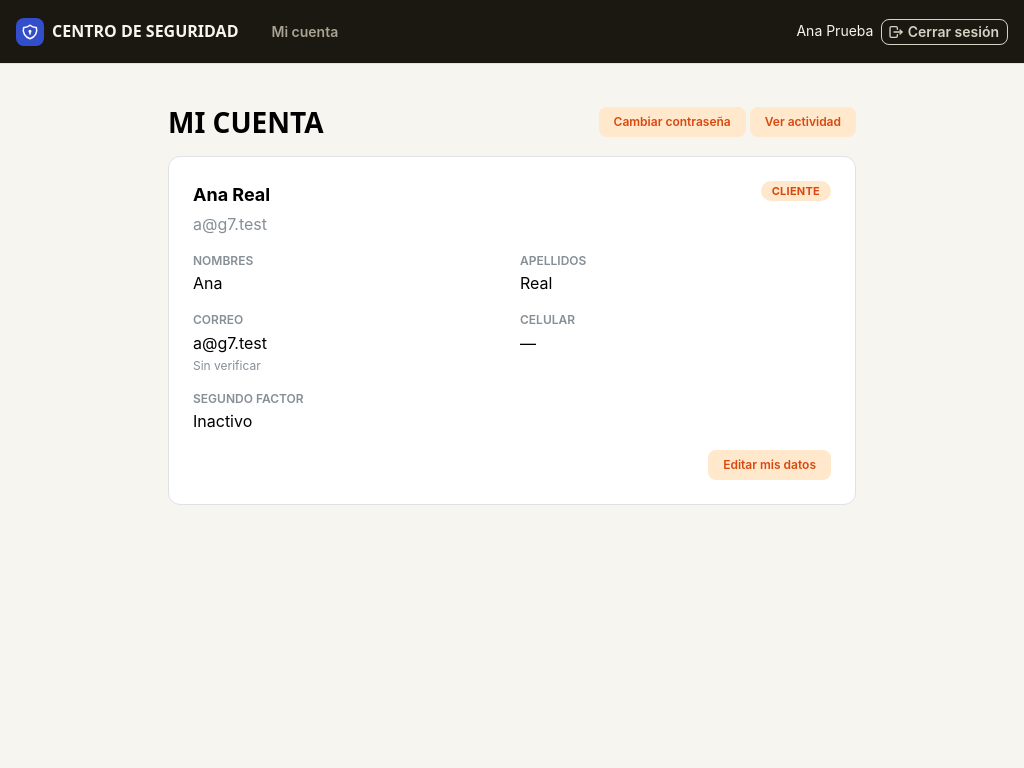
Test case: FRONT-06 edición propia › un 400 VALIDACION del backend aparece bajo su campo
The width and height of the screenshot is (1024, 768).
Click the button "Editar mis datos": (770, 465) top-left (708, 450), bottom-right (831, 480)
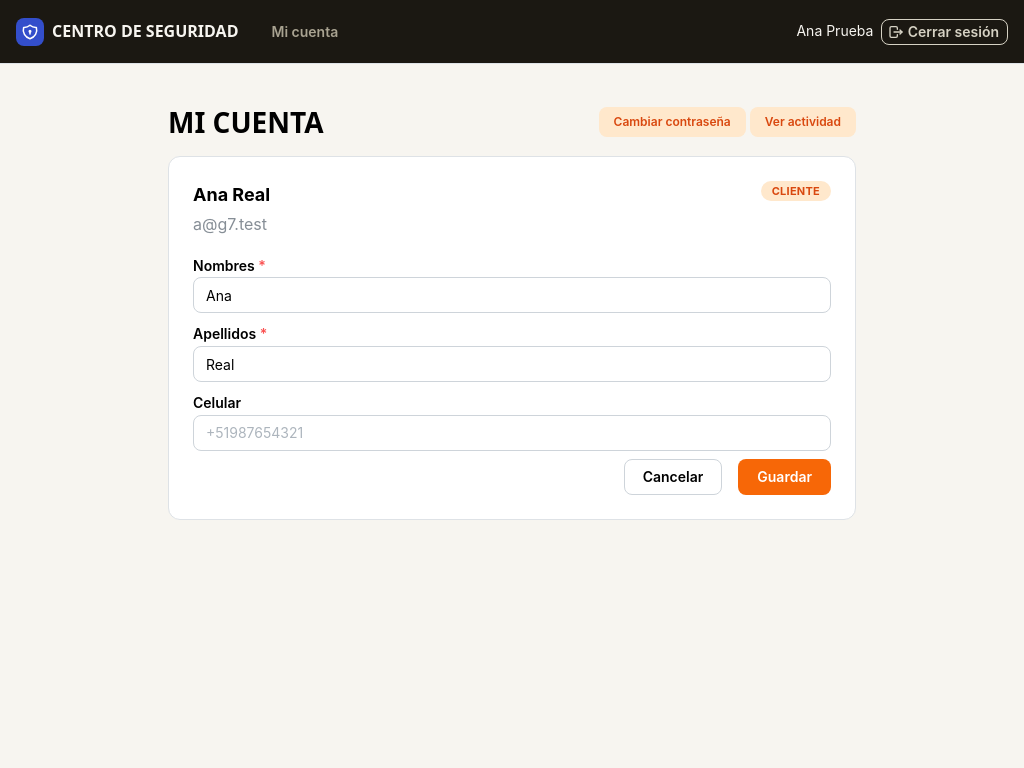
Replace the text in the field labelled "Nombres *" with "Otro": (512, 295) top-left (193, 277), bottom-right (831, 313)
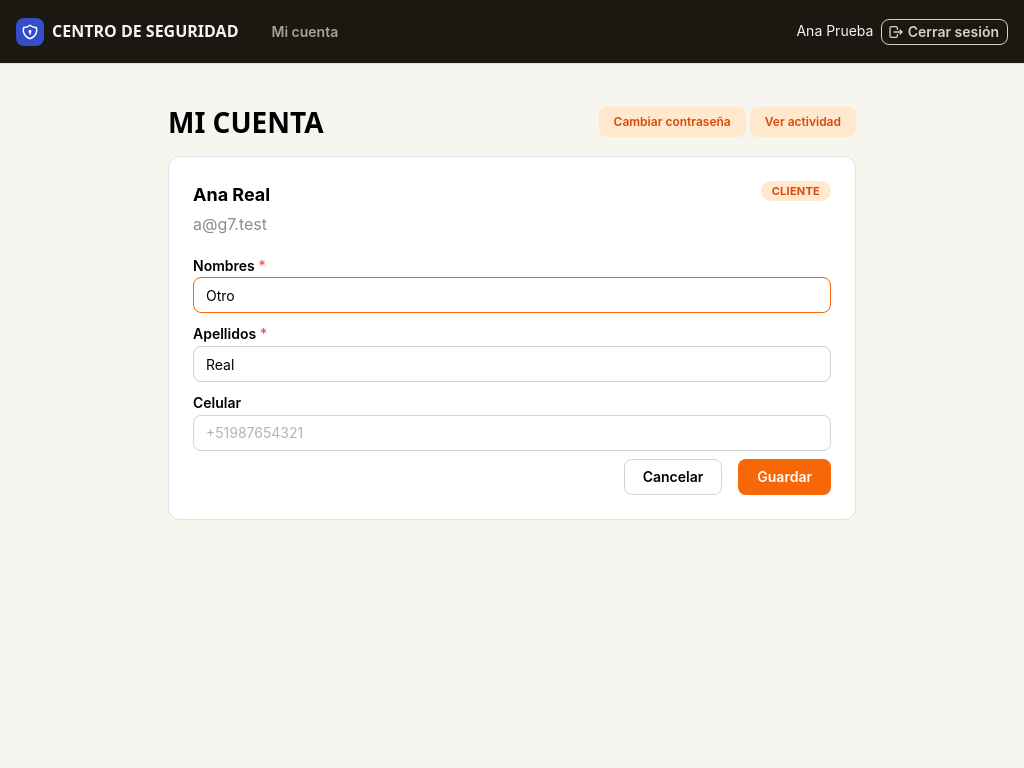
Click the button "Guardar": (785, 477) top-left (738, 459), bottom-right (831, 495)
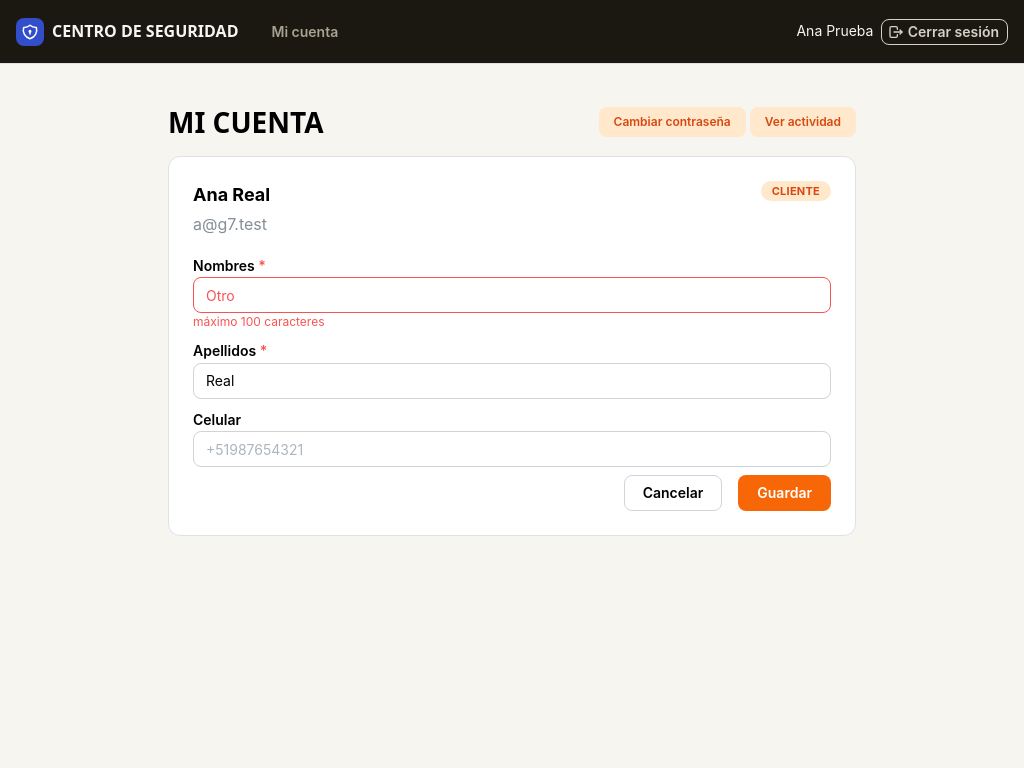
Now the text "máximo 100 caracteres" is shown, box top-left (193, 314), bottom-right (324, 329)
